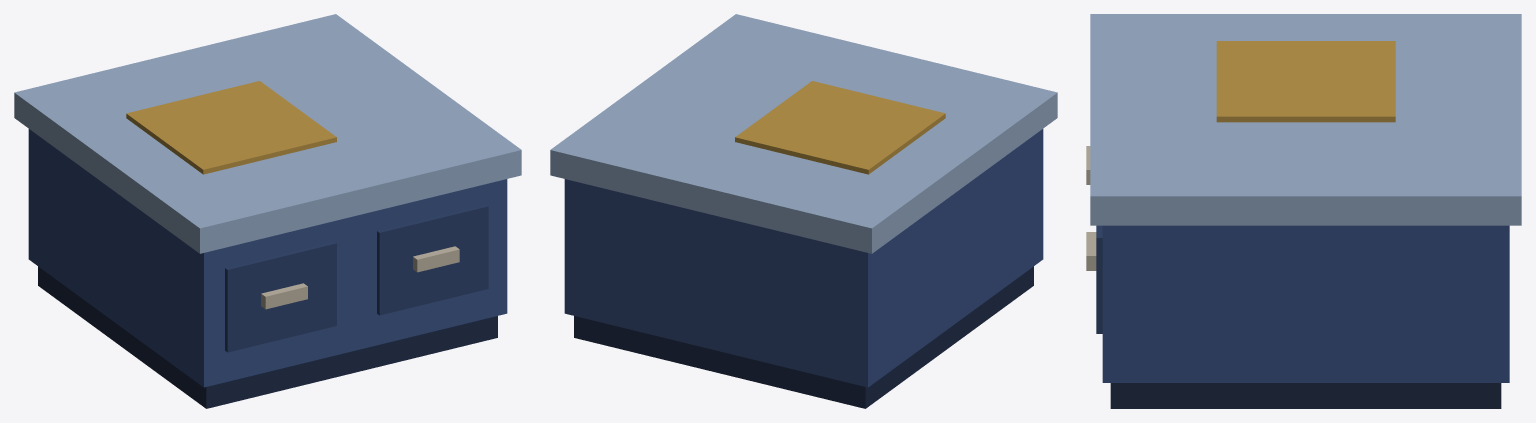
Rendered from k_frost_hatch.glb.
3 views of the same model, side by side, from view 1: azimuth 30°, elevation 25°; view 2: azimuth 150°, elevation 25°; view 3: azimuth 270°, elevation 25° (orthographic). The views are drawn at different scales.
Parts seen in each view (by area): view 1: piece; view 2: piece; view 3: piece.
Boxes of the visible parts, <box> form: piece: <box>14,14,521,408</box>; piece: <box>550,14,1057,408</box>; piece: <box>1086,14,1521,408</box>.
Size of the model in its own units: 1.06 by 0.615 by 1.07.
